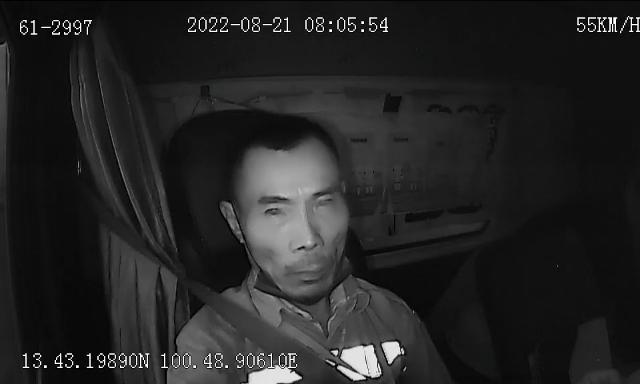SafeDriving: (306, 188, 342, 215), (258, 196, 295, 222)
Seatbelt: (146, 244, 360, 384)
